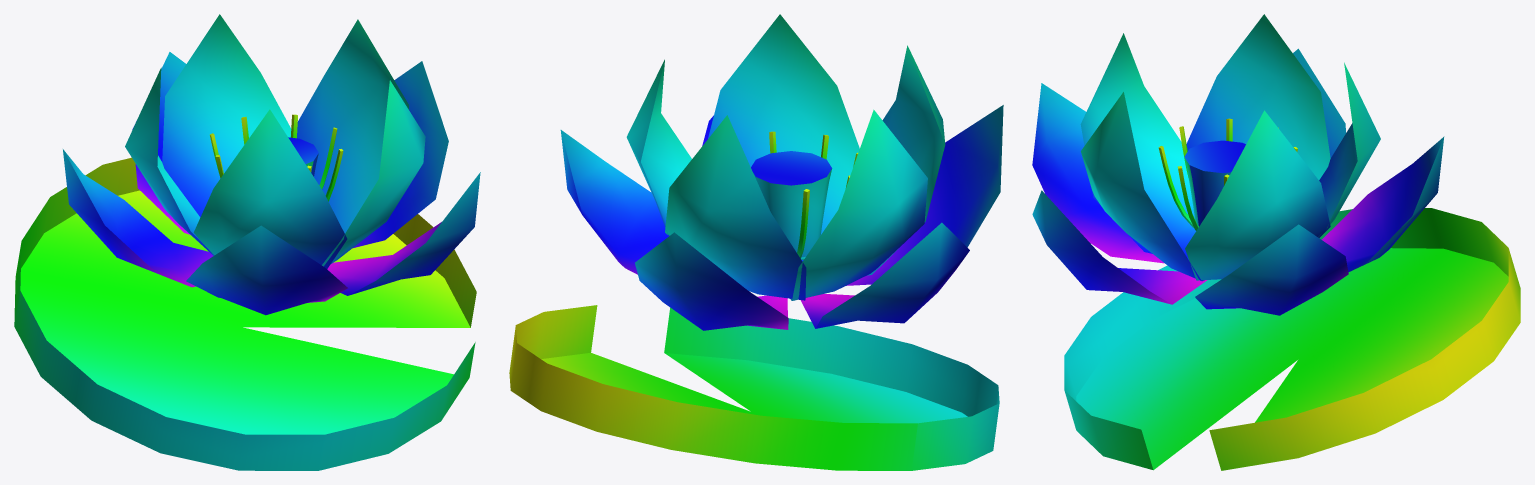
File: hasu_l_uv.fbx
3 views of the same model, side by side, from view 1: azimuth 30°, elevation 25°; view 2: azimuth 150°, elevation 25°; view 3: azimuth 270°, elevation 25° (orthographic). The views are drawn at different scales.
Visible parts, largest first — view 1: Cylinder001, オブジェクト014, オブジェクト011, オブジェクト008, オブジェクト013, オブジェクト015, Cylinder004; view 2: Cylinder001, オブジェクト008, オブジェクト015, オブジェクト013, オブジェクト014, オブジェクト011, Cylinder004; view 3: Cylinder001, オブジェクト011, オブジェクト014, オブジェクト013, オブジェクト015, オブジェクト008, Cylinder004.
Boxes of the visible parts, box(x1,y1,x2,y2) form: Cylinder001: box(14, 157, 476, 470); オブジェクト014: box(186, 109, 347, 315); オブジェクト011: box(297, 19, 448, 247); オブジェクト008: box(132, 14, 291, 234); オブジェクト013: box(322, 80, 480, 295); オブジェクト015: box(63, 67, 214, 287); Cylinder004: box(288, 137, 318, 176); Cylinder001: box(509, 305, 999, 470); オブジェクト008: box(635, 115, 806, 330); オブジェクト015: box(790, 109, 969, 328); オブジェクト013: box(702, 14, 859, 261); オブジェクト014: box(846, 45, 1003, 285); オブジェクト011: box(560, 59, 691, 274); Cylinder004: box(751, 151, 832, 257); Cylinder001: box(1064, 208, 1520, 470); オブジェクト011: box(1185, 110, 1348, 315); オブジェクト014: box(1032, 33, 1195, 263); オブジェクト013: box(1032, 92, 1207, 304); オブジェクト015: box(1186, 14, 1345, 179); オブジェクト008: box(1318, 62, 1444, 272); Cylinder004: box(1184, 140, 1245, 226).
Bounding box in the file's own units: 817 × 678 × 854.
Materials: 1 (1 with a texture image).
